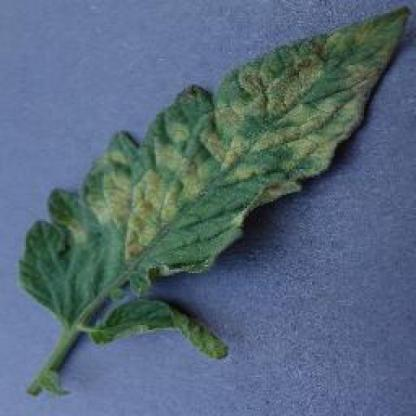Tomato_Leaf_Mold: (17, 6, 411, 313)
